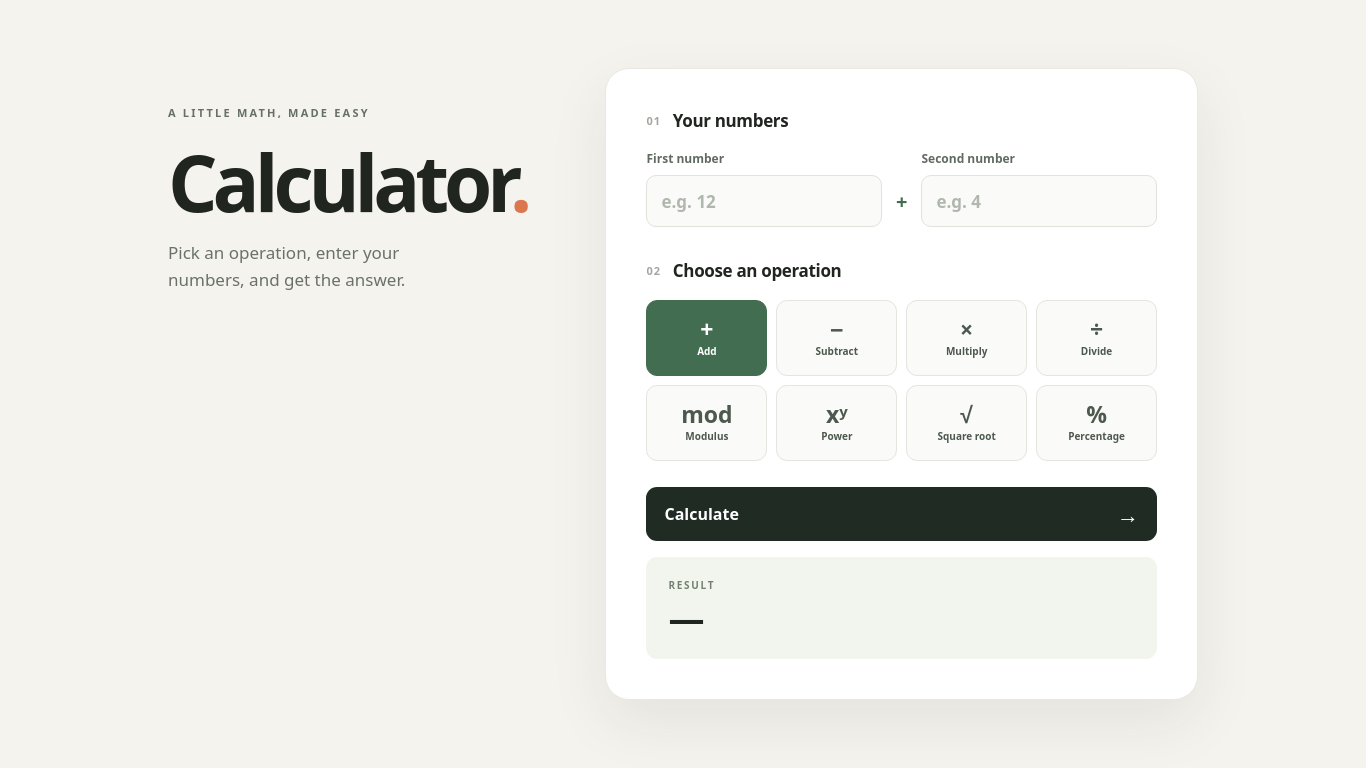
calculator form › shows the percentage explanation for that operation
Step 1. Click the button "% Percentage" → coordinates (1097, 423), box [1036, 385, 1157, 461]
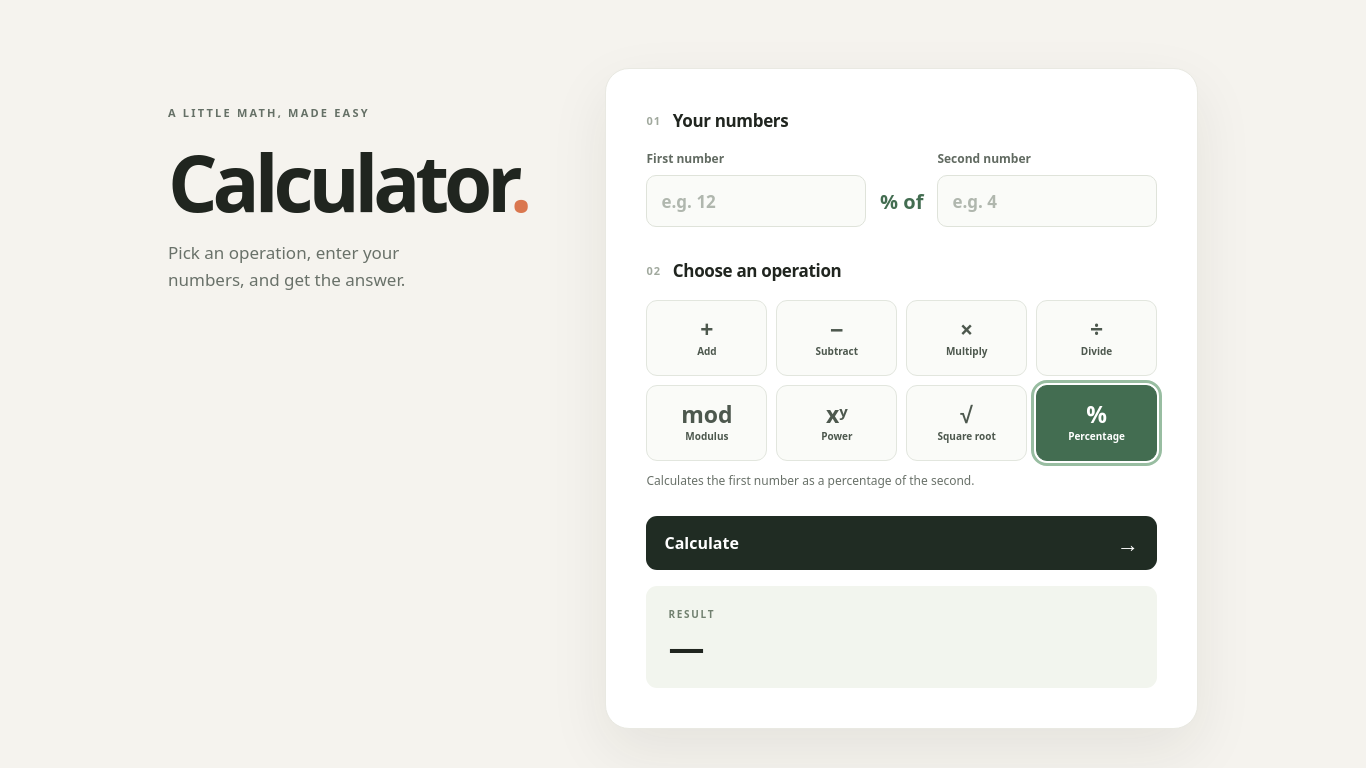
Check: the text "Calculates the first number as a percentage of the second." is shown, box [646, 472, 974, 489]
